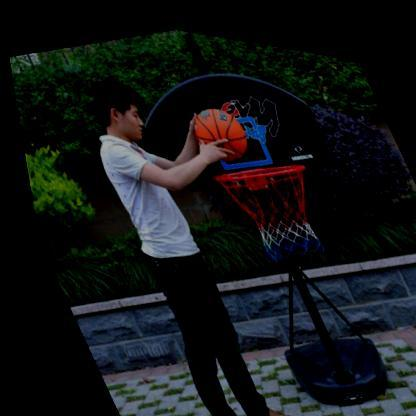basketball: (181, 91, 254, 163)
rim: (204, 138, 340, 268)
